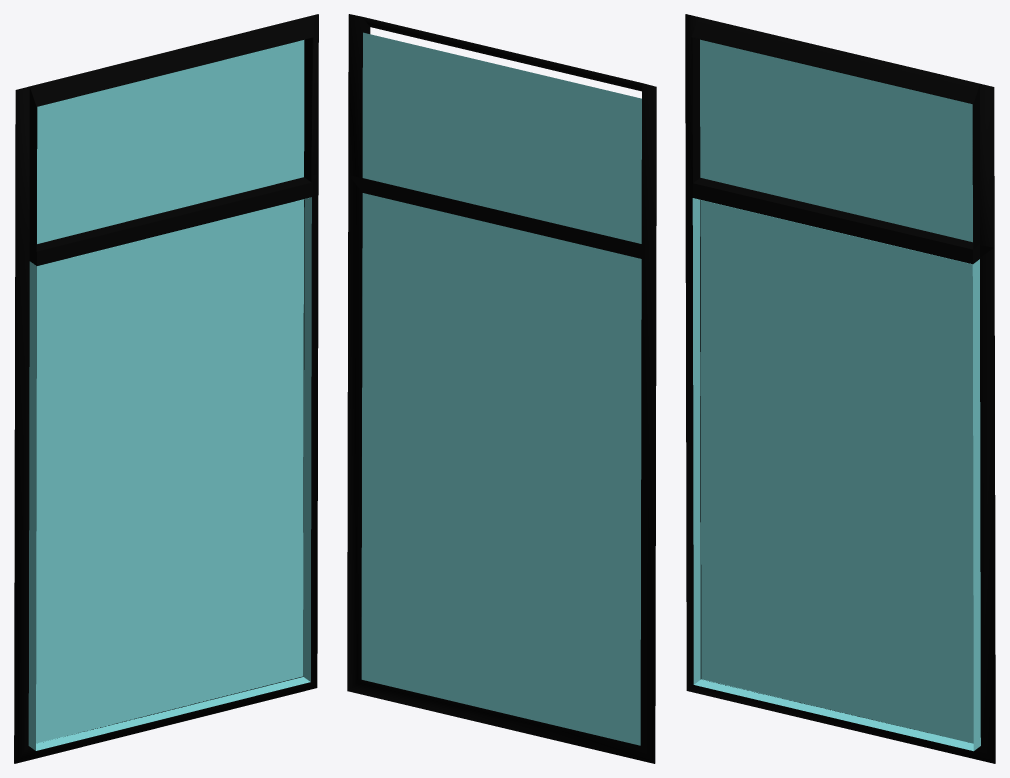
The model's file is WindowTextured 1.fbx.
The picture shows the model from 3 angles, left to right: view 1: azimuth 30°, elevation 25°; view 2: azimuth 150°, elevation 25°; view 3: azimuth 330°, elevation 25°; orthographic projection.
Parts seen in each view (by area): view 1: Cube.002, Cube; view 2: Cube.002, Cube; view 3: Cube.002, Cube.
Part boxes in pixels (left/top/right/bottom): Cube.002: left=28, top=40, right=311, bottom=750; Cube: left=14, top=14, right=318, bottom=763; Cube.002: left=361, top=32, right=641, bottom=745; Cube: left=347, top=14, right=656, bottom=763; Cube.002: left=692, top=39, right=980, bottom=751; Cube: left=685, top=14, right=995, bottom=763.
Size of the model in its own units: 257 by 544 by 16.71.
